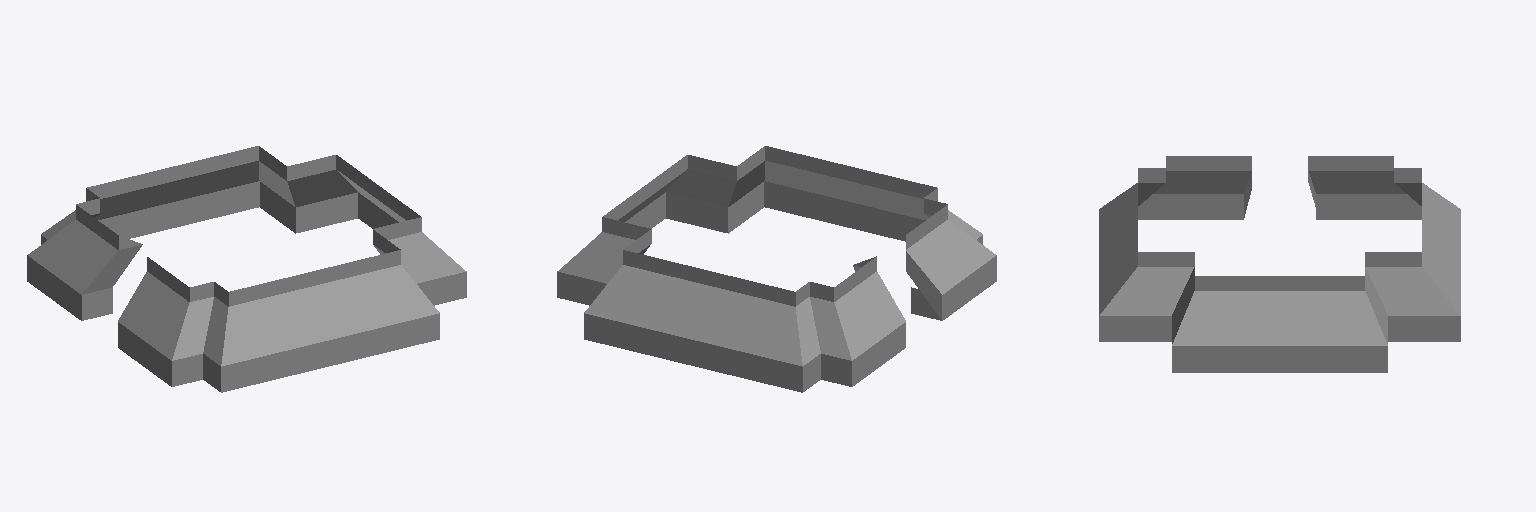
File: coliseo.obj
3 renders of one model, left to right at view 1: azimuth 30°, elevation 25°; view 2: azimuth 150°, elevation 25°; view 3: azimuth 270°, elevation 25°, orthographic.
Visible parts, largest first — view 1: Collosseum_Cube.005; view 2: Collosseum_Cube.005; view 3: Collosseum_Cube.005.
Part boxes in pixels (bbox=[...]): Collosseum_Cube.005: bbox=[27, 146, 466, 392]; Collosseum_Cube.005: bbox=[557, 146, 996, 392]; Collosseum_Cube.005: bbox=[1099, 156, 1460, 372].
Size of the model in its own units: 2.5 by 0.6148 by 2.5.